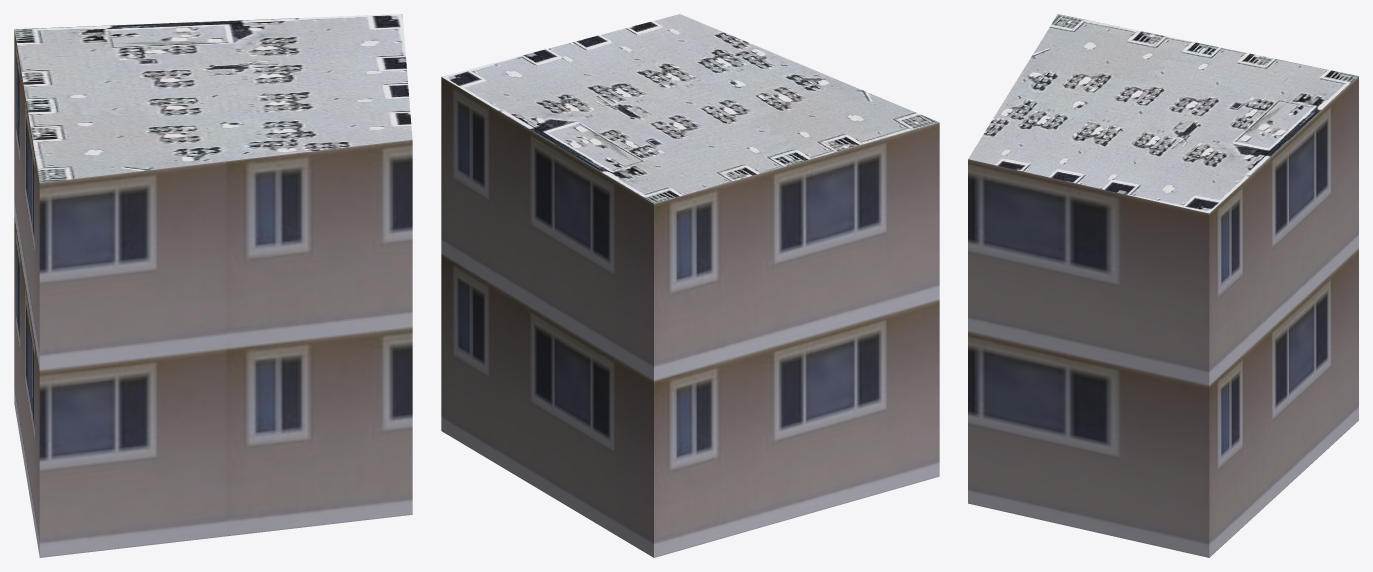
File: ResTex__656.fbx
3 renders of one model, left to right at view 1: azimuth 30°, elevation 25°; view 2: azimuth 150°, elevation 25°; view 3: azimuth 270°, elevation 25°, orthographic. The views are drawn at different scales.
Visible parts, largest first — view 1: CityEngineMaterial_21_m, CityEngineMaterial_m; view 2: CityEngineMaterial_21_m, CityEngineMaterial_m; view 3: CityEngineMaterial_21_m, CityEngineMaterial_m.
Boxes of the visible parts, x1,y1,x2,y2 form: CityEngineMaterial_21_m: [14, 30, 412, 557]; CityEngineMaterial_m: [14, 14, 412, 182]; CityEngineMaterial_21_m: [441, 77, 939, 557]; CityEngineMaterial_m: [441, 14, 939, 203]; CityEngineMaterial_21_m: [968, 76, 1358, 557]; CityEngineMaterial_m: [968, 14, 1358, 213].
Bounding box in the file's own units: 7.45 × 6 × 6.17.
Materials: 2 (2 with a texture image).
